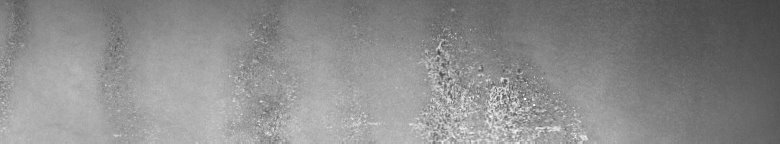hc: (352, 9, 580, 136)
